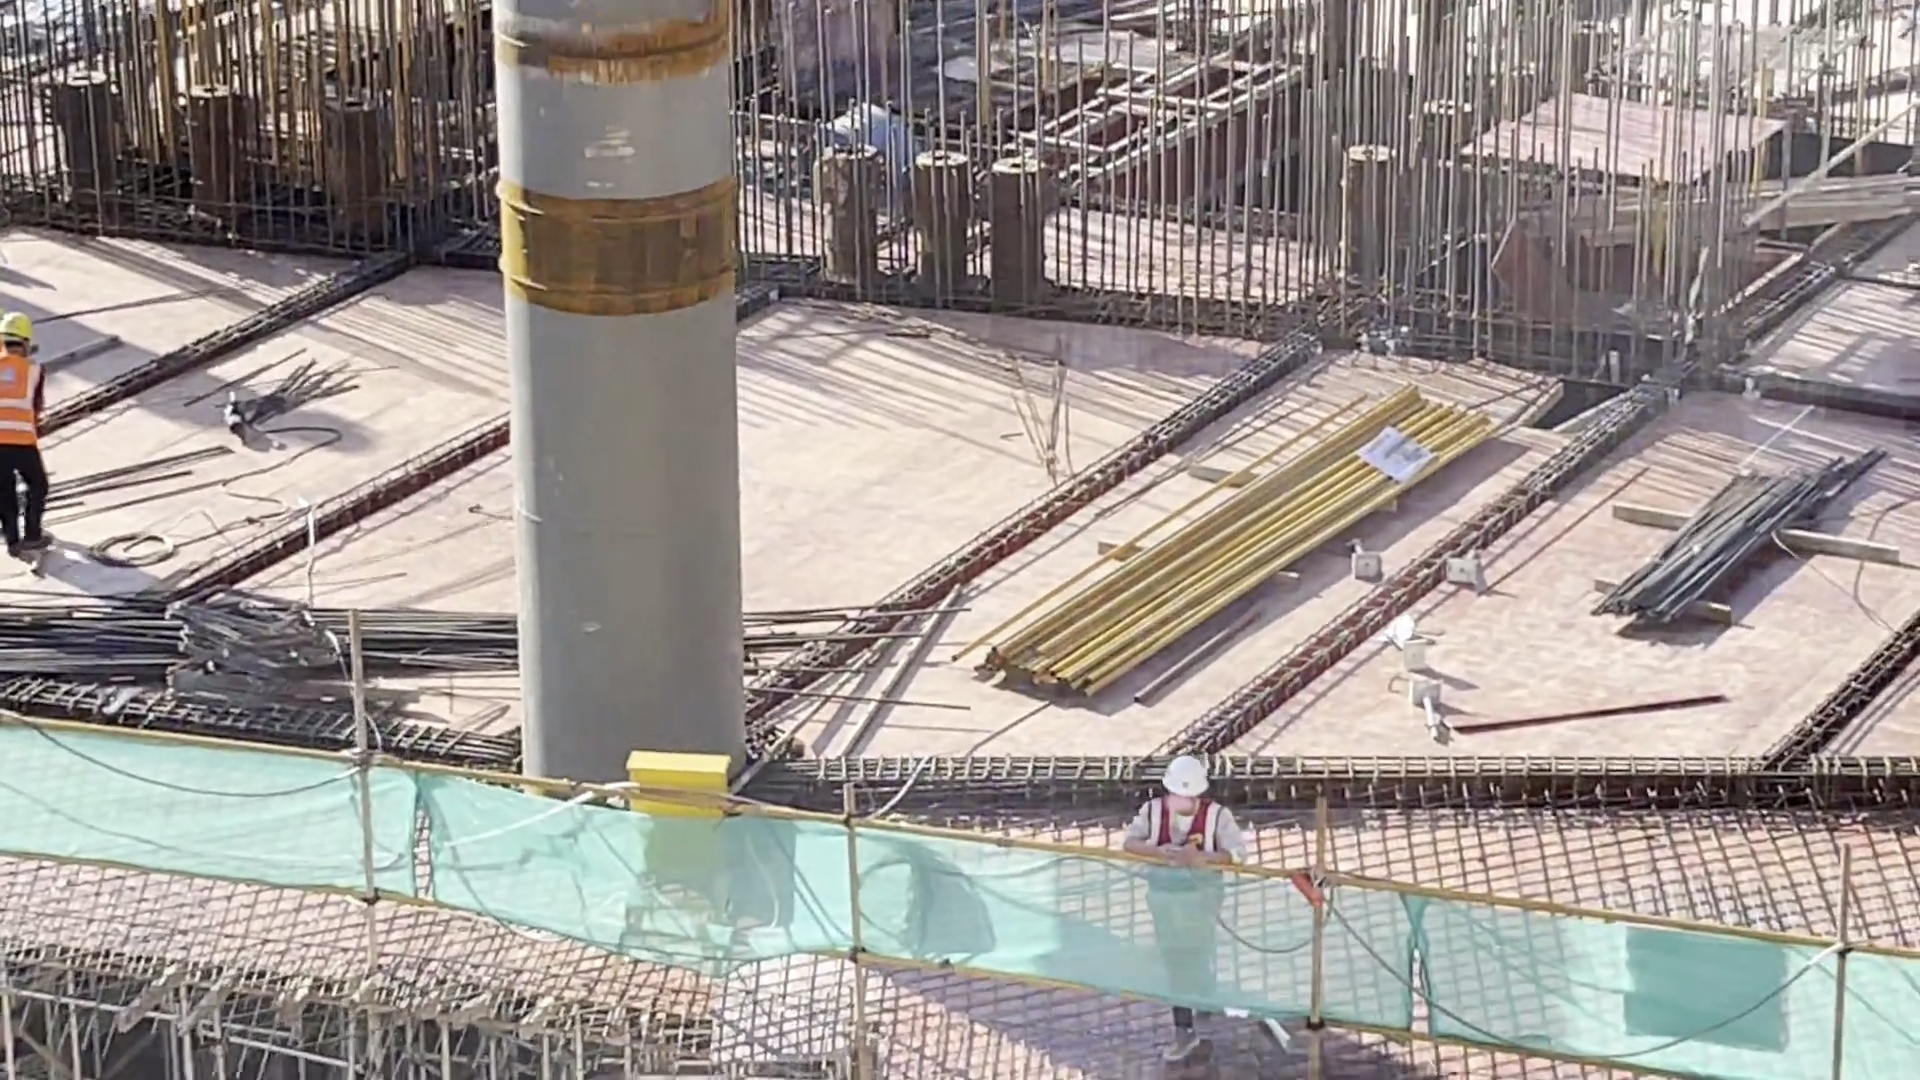helmet: (1159, 756, 1224, 804), (1, 308, 31, 346)
person: (1134, 742, 1248, 1074), (1, 305, 59, 561)
vest: (1146, 801, 1223, 920), (1, 355, 48, 463)
